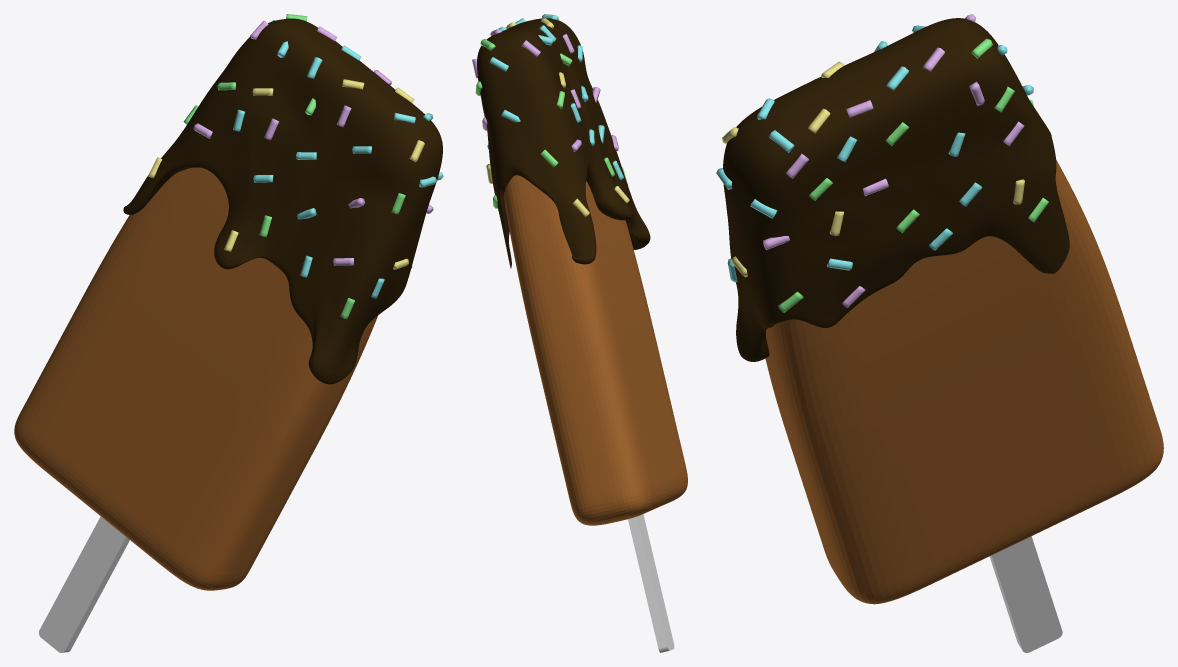
The model's file is icecream_chocolate.fbx.
3 renders of one model, left to right at view 1: azimuth 30°, elevation 25°; view 2: azimuth 150°, elevation 25°; view 3: azimuth 270°, elevation 25°, orthographic. The views are drawn at different scales.
Visible parts, largest first — view 1: ice cream.001, cream.001, wood.001; view 2: ice cream.001, cream.001, wood.001; view 3: ice cream.001, cream.001, wood.001.
Part boxes in pixels (left/top/right/bottom): ice cream.001: left=14, top=167, right=377, bottom=590; cream.001: left=123, top=18, right=442, bottom=384; wood.001: left=39, top=516, right=129, bottom=652; ice cream.001: left=504, top=175, right=687, bottom=525; cream.001: left=477, top=18, right=650, bottom=268; wood.001: left=628, top=514, right=674, bottom=652; ice cream.001: left=765, top=159, right=1163, bottom=604; cream.001: left=723, top=18, right=1069, bottom=361; wood.001: left=989, top=536, right=1062, bottom=652.
Size of the model in its own units: 229 by 460 by 251.
